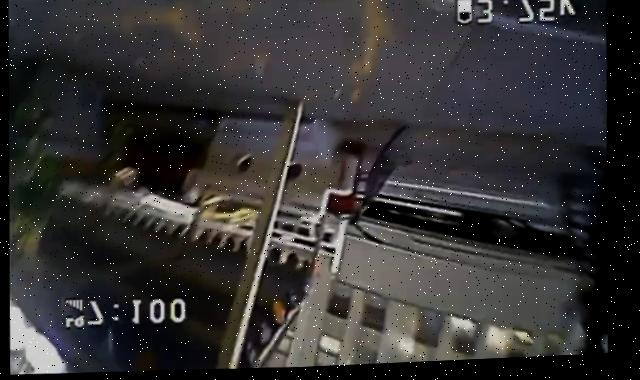bicycle: (326, 125, 416, 261)
